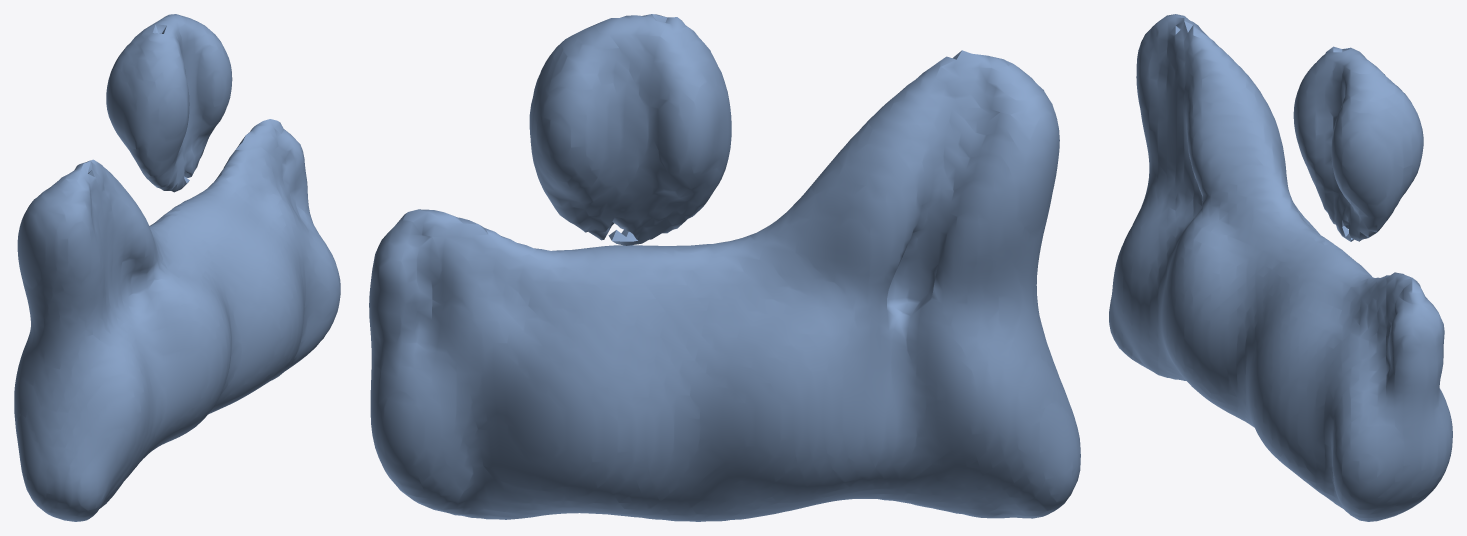
File: envelope.mollified.von_mises.p90.glb
The picture shows the model from 3 angles, left to right: view 1: azimuth 30°, elevation 25°; view 2: azimuth 150°, elevation 25°; view 3: azimuth 270°, elevation 25°; orthographic projection. The views are drawn at different scales.
Parts seen in each view (by area): view 1: envelope.mollified.von_mises.p90; view 2: envelope.mollified.von_mises.p90; view 3: envelope.mollified.von_mises.p90.
Boxes of the visible parts, left/top/right/bottom form: envelope.mollified.von_mises.p90: left=14, top=14, right=340, bottom=521; envelope.mollified.von_mises.p90: left=369, top=14, right=1080, bottom=521; envelope.mollified.von_mises.p90: left=1109, top=14, right=1452, bottom=521.
Size of the model in its own units: 11.24 by 10.29 by 7.85.
